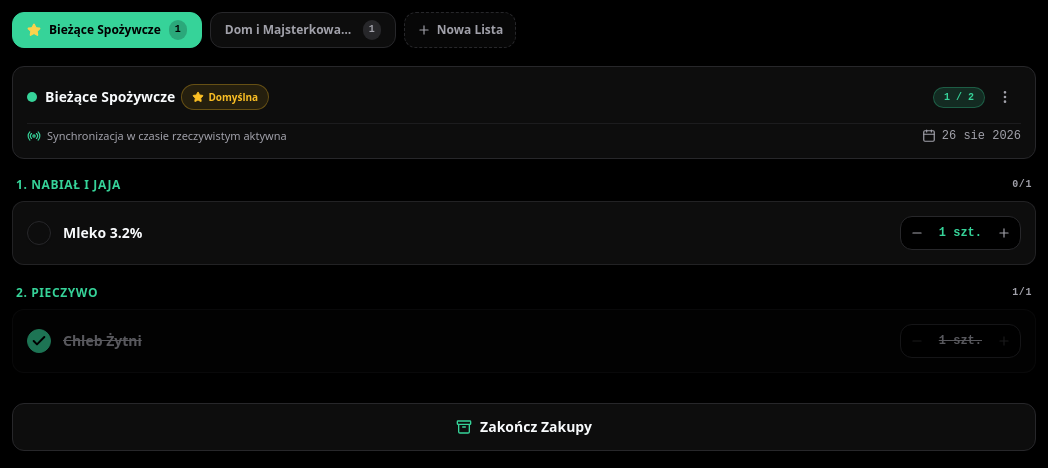
Scenario: ActiveListView - Multi-Active List Navigation & Management Flow › Flow 02: switching active list chip loads the selected list details
Expected: the 1st text "Bieżące Spożywcze" is shown, [49,22,161,38]
Step 1. Click the button "Dom i Majsterkowanie 1" → (303, 30), box [210,12,396,48]
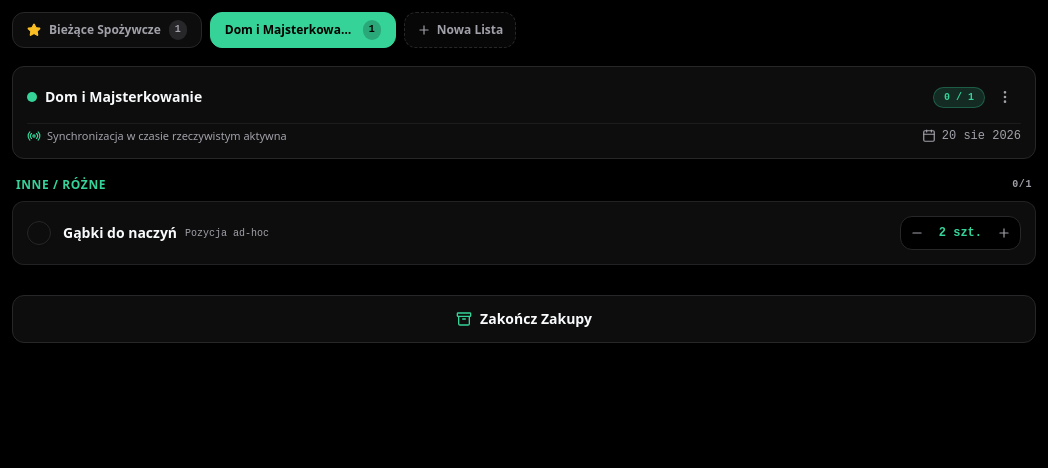
Result: the text "Gąbki do naczyń" is shown at [63,223,177,243]
